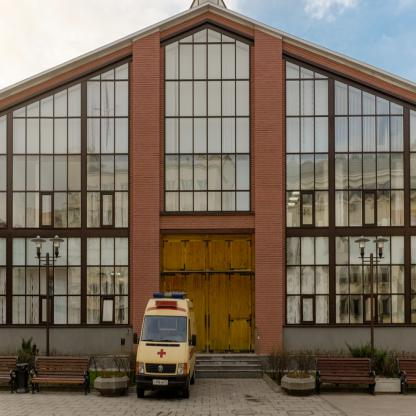Ambulance: (132, 290, 198, 400)
